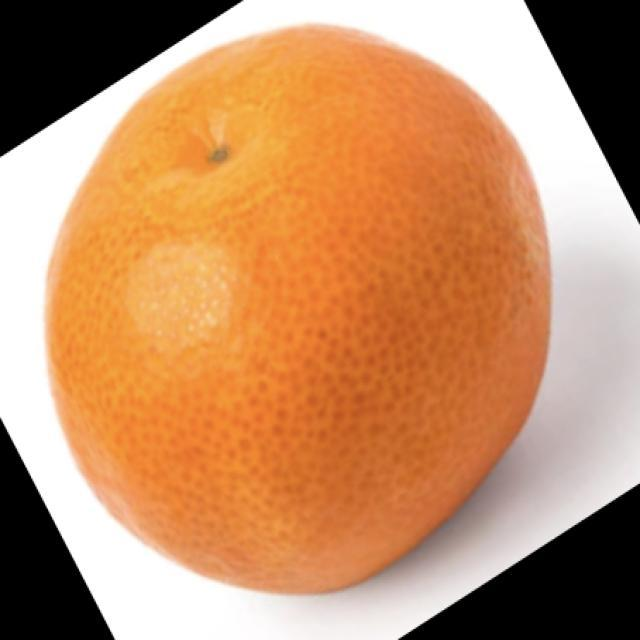matang: (47, 28, 550, 591)
